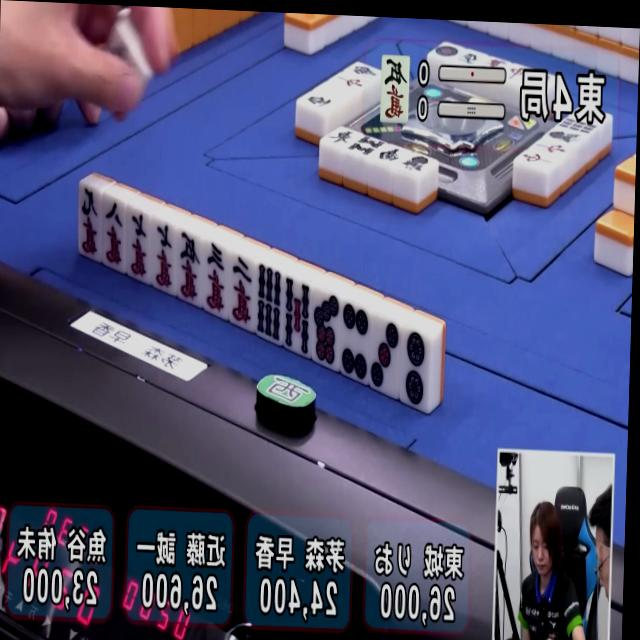2C: (226, 254, 260, 331)
2D: (396, 325, 434, 413)
3C: (197, 241, 231, 320)
3D: (366, 317, 403, 398)
4D: (336, 301, 373, 384)
5B: (281, 278, 315, 359)
5C: (170, 229, 205, 305)
6B: (252, 262, 287, 344)
7C: (146, 219, 179, 295), (122, 210, 154, 284)
7D: (310, 291, 345, 372)
8C: (97, 194, 128, 270)
9C: (76, 178, 104, 261)
